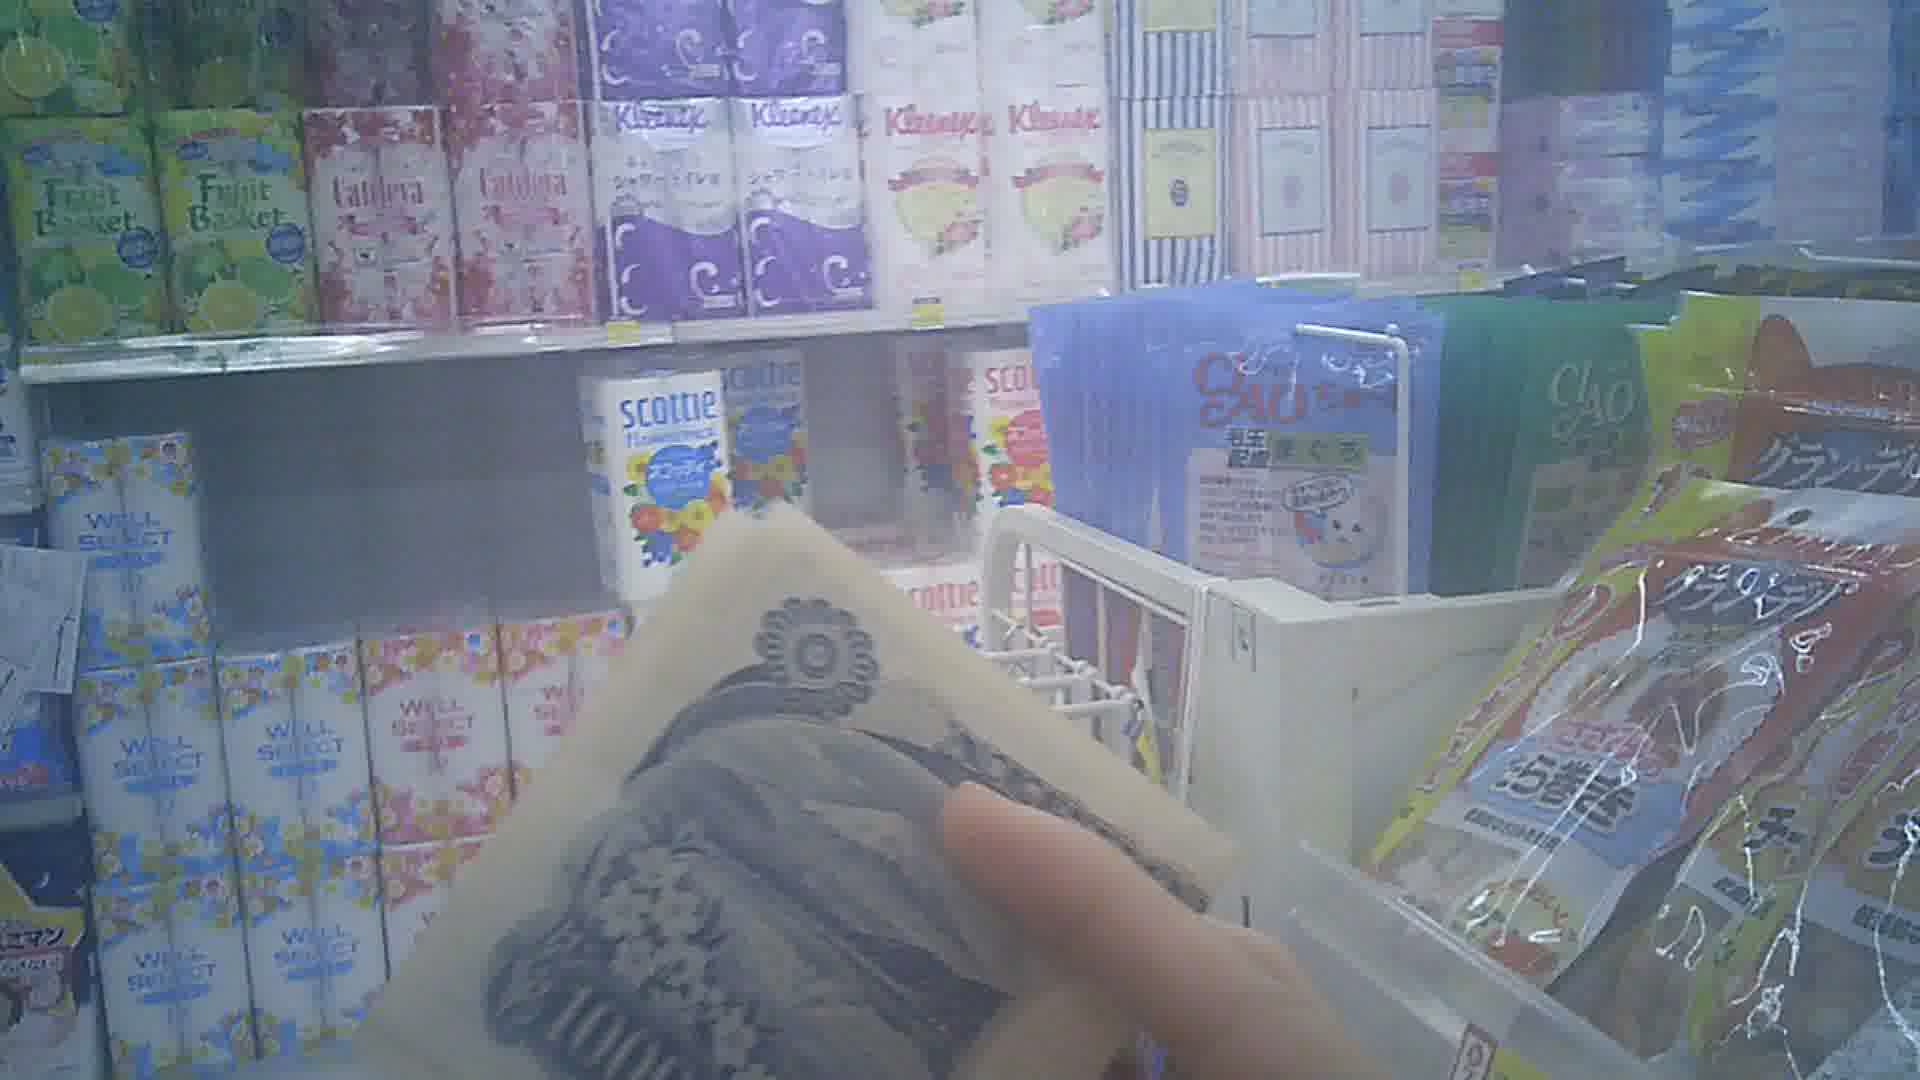1,000 Yen: (405, 516, 1197, 1076)
